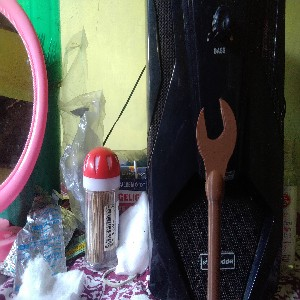spanner: (194, 98, 237, 300)
